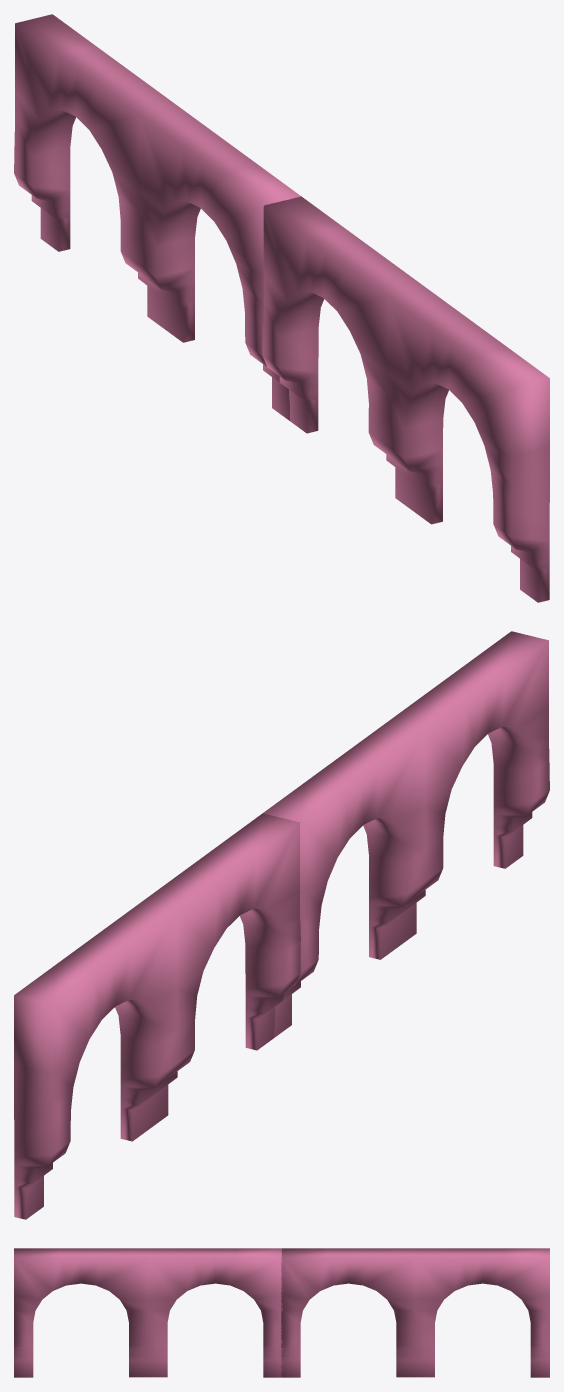
Rendered from Wall_Orn_02_x2.fbx.
The picture shows the model from 3 angles, top to bottom: view 1: azimuth 30°, elevation 25°; view 2: azimuth 150°, elevation 25°; view 3: azimuth 270°, elevation 25°; orthographic projection. The views are drawn at different scales.
Visible parts, largest first — view 1: Wall_Orn_02_x2; view 2: Wall_Orn_02_x2; view 3: Wall_Orn_02_x2.
Boxes of the visible parts, x1,y1,x2,y2 form: Wall_Orn_02_x2: (14, 14, 549, 602); Wall_Orn_02_x2: (14, 631, 549, 1219); Wall_Orn_02_x2: (14, 1248, 549, 1377).
Size of the model in its own units: 27.42 by 148 by 601.
